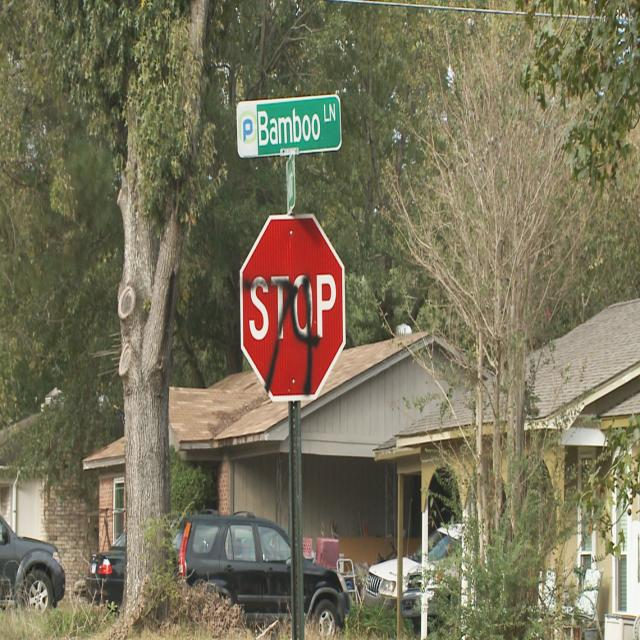Panneau-Stop: (234, 205, 348, 404)
